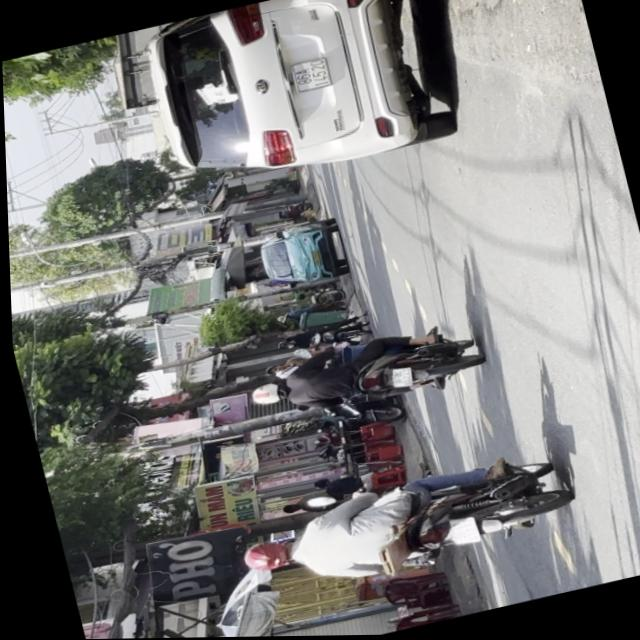helmet: (233, 535, 295, 579), (243, 382, 283, 410)
licenseplate: (223, 442, 579, 608), (236, 318, 484, 434)
nohelmet: (442, 518, 477, 549), (384, 366, 410, 391)
